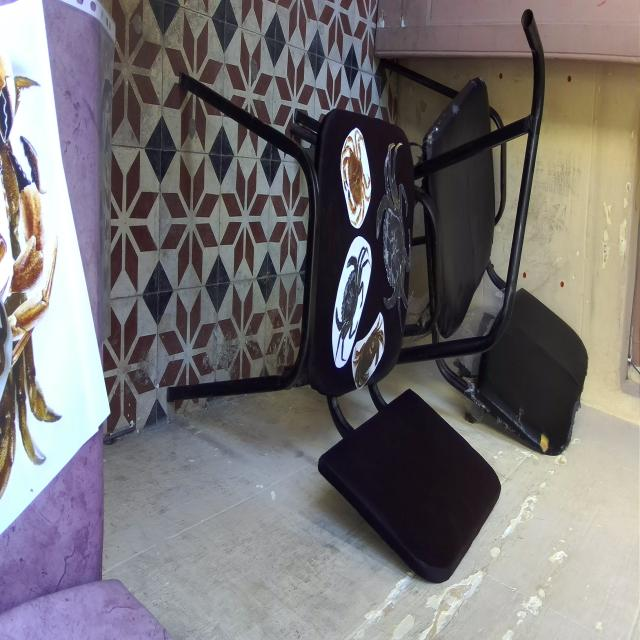European_Green_Crab: (372, 141, 415, 336), (324, 237, 375, 372)
